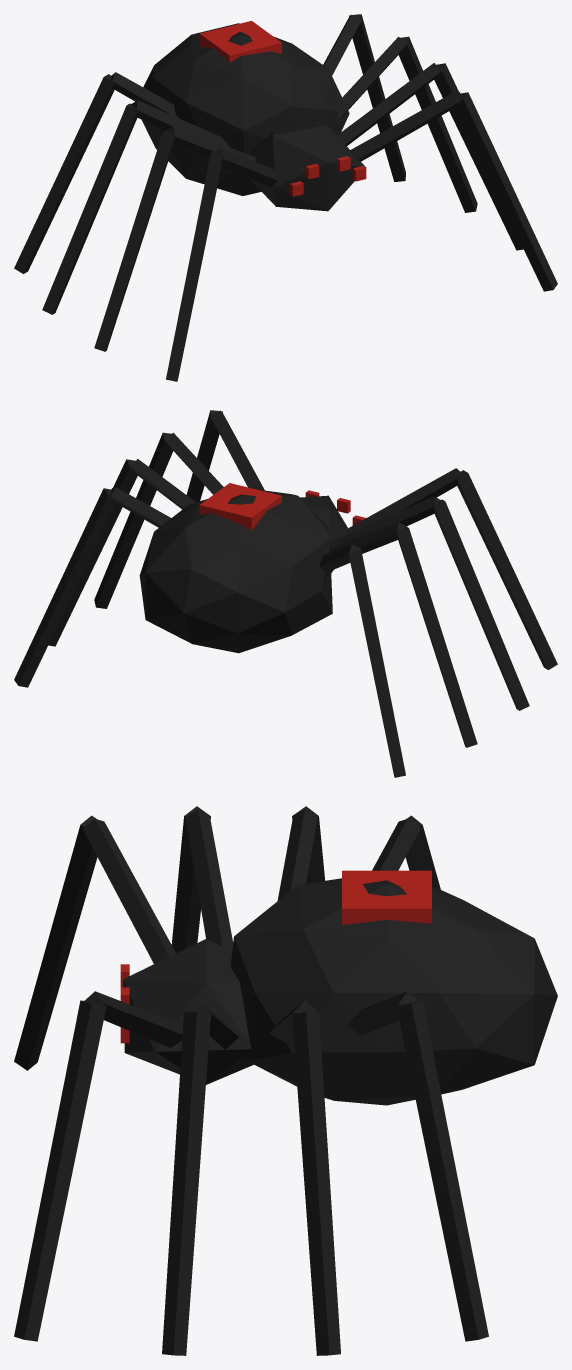
The model's file is spider.glb.
3 renders of one model, top to bottom at view 1: azimuth 30°, elevation 25°; view 2: azimuth 150°, elevation 25°; view 3: azimuth 270°, elevation 25°, orthographic. The views are drawn at different scales.
Parts seen in each view (by area): view 1: Body_spider, Leg4_spider, Leg2_spider, Leg3_spider, Leg1_spider, Leg0_spider, Leg6_spider, Leg5_spider, Body_spider_red, Leg7_spider; view 2: Body_spider, Leg0_spider, Leg7_spider, Leg1_spider, Leg2_spider, Leg3_spider, Leg5_spider, Leg6_spider, Body_spider_red, Leg4_spider; view 3: Body_spider, Leg4_spider, Leg7_spider, Leg5_spider, Leg6_spider, Leg0_spider, Leg1_spider, Body_spider_red, Leg2_spider, Leg3_spider.
Boxes of the visible parts, x1,y1,x2,y2 form: Body_spider: [142, 23, 366, 211]; Leg4_spider: [350, 91, 557, 291]; Leg2_spider: [42, 100, 229, 314]; Leg3_spider: [14, 72, 178, 273]; Leg1_spider: [94, 126, 256, 351]; Leg0_spider: [166, 148, 278, 381]; Leg6_spider: [336, 36, 477, 212]; Leg5_spider: [337, 63, 523, 250]; Body_spider_red: [199, 21, 366, 196]; Leg7_spider: [323, 14, 405, 181]; Body_spider: [139, 489, 347, 653]; Leg0_spider: [346, 468, 557, 669]; Leg7_spider: [14, 487, 170, 687]; Leg1_spider: [333, 496, 529, 710]; Leg2_spider: [331, 522, 477, 747]; Leg3_spider: [319, 544, 405, 777]; Leg5_spider: [94, 432, 223, 608]; Leg6_spider: [48, 459, 195, 646]; Body_spider_red: [199, 483, 365, 530]; Leg4_spider: [186, 410, 264, 502]; Body_spider: [123, 878, 557, 1105]; Leg4_spider: [14, 991, 182, 1341]; Leg7_spider: [347, 991, 488, 1341]; Leg5_spider: [162, 1000, 239, 1355]; Leg6_spider: [268, 1000, 340, 1355]; Leg0_spider: [14, 815, 175, 1070]; Leg1_spider: [171, 806, 233, 953]; Body_spider_red: [120, 870, 431, 1043]; Leg2_spider: [277, 806, 324, 900]; Leg3_spider: [372, 815, 440, 889].
Size of the model in its own units: 1.67 by 0.7849 by 1.21.
